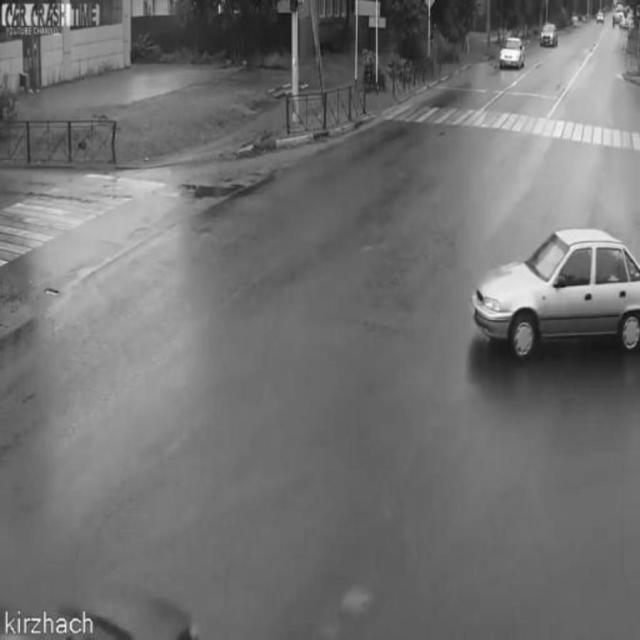vehicle: (468, 219, 640, 363), (498, 32, 525, 68), (537, 24, 559, 48)
